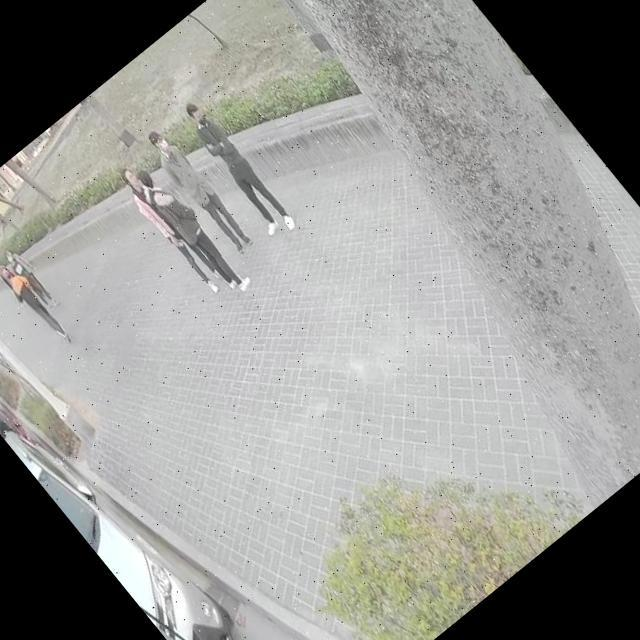person: (122, 153, 259, 310), (173, 96, 299, 240), (107, 158, 229, 300), (142, 124, 255, 255), (0, 256, 79, 353), (0, 240, 58, 311), (0, 236, 55, 301), (0, 260, 31, 308)
